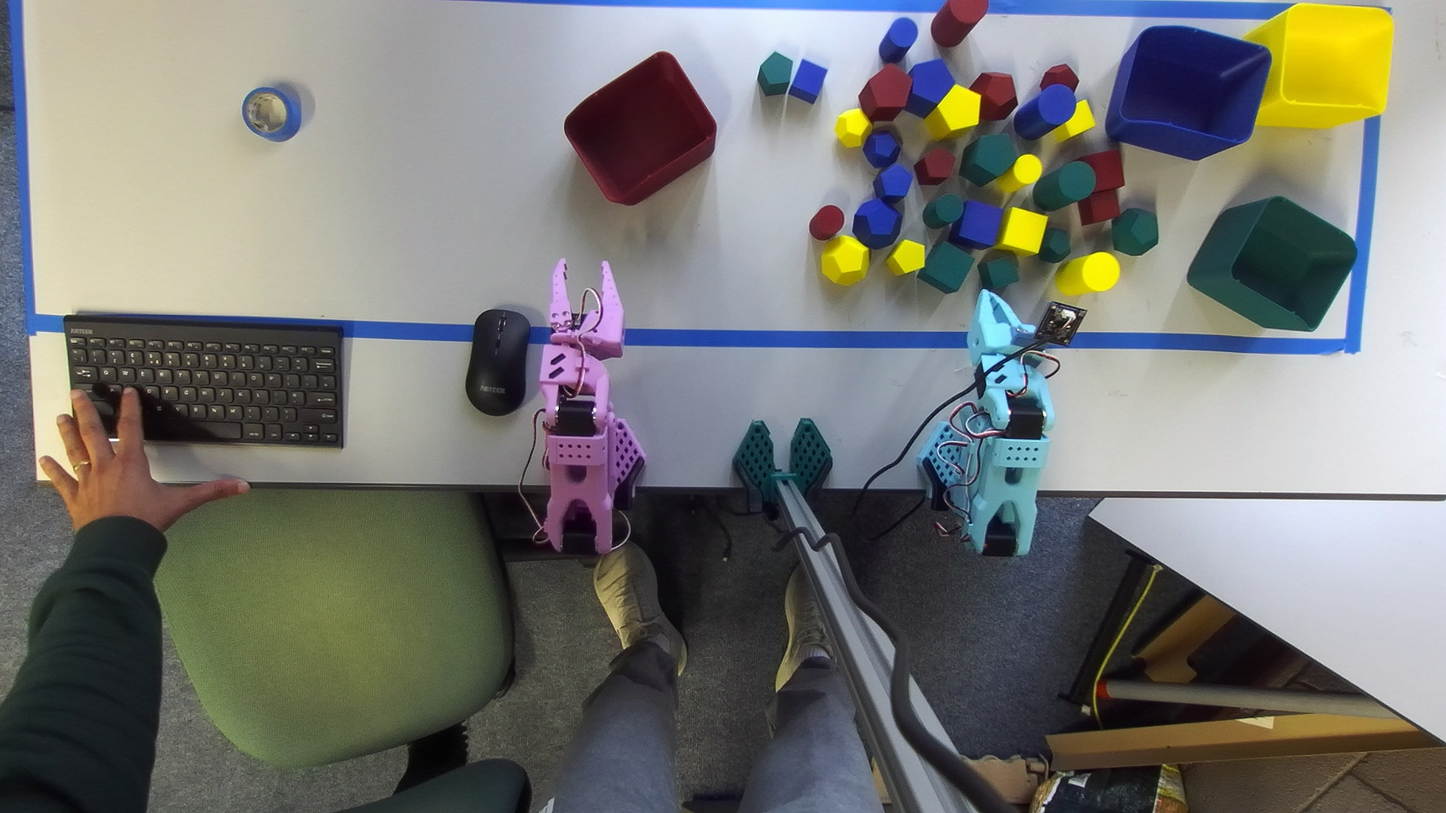bin: (564, 51, 716, 205), (1187, 196, 1356, 330), (1105, 26, 1271, 160), (1243, 4, 1393, 128)
cube: (917, 241, 974, 293), (948, 200, 1002, 250), (1051, 100, 1094, 142), (1083, 148, 1124, 192), (789, 59, 827, 102), (978, 254, 1018, 293), (1078, 189, 1120, 225)
cylinder: (1013, 84, 1075, 139), (1033, 160, 1095, 210), (1054, 252, 1119, 295), (930, 0, 988, 47), (993, 154, 1042, 192), (878, 17, 917, 63), (922, 193, 962, 230), (809, 205, 844, 240)
dodecahedron: (853, 198, 901, 249), (969, 72, 1017, 123), (821, 235, 869, 285), (1111, 208, 1158, 255), (862, 131, 901, 169), (834, 108, 871, 147), (1038, 225, 1070, 262), (1041, 63, 1078, 90)
gripper: (548, 258, 624, 361), (967, 289, 1036, 365)
hexagonal: (925, 84, 981, 139), (858, 65, 911, 123), (959, 133, 1017, 186), (905, 58, 954, 117), (873, 163, 914, 203), (914, 146, 955, 185), (758, 52, 793, 95), (886, 239, 926, 275)
